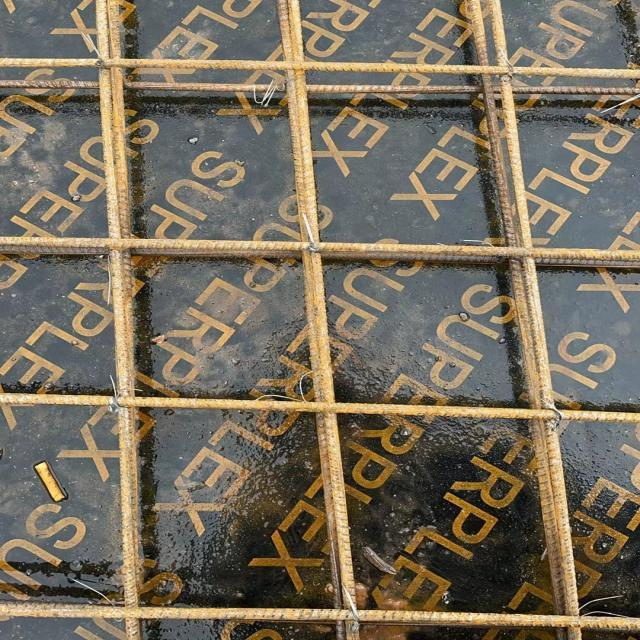ribbed bar: (465, 0, 574, 639), (491, 0, 583, 639), (275, 0, 362, 639), (94, 0, 142, 639), (0, 391, 639, 424), (0, 237, 639, 269), (0, 602, 639, 630), (0, 57, 639, 80), (0, 80, 639, 95)
